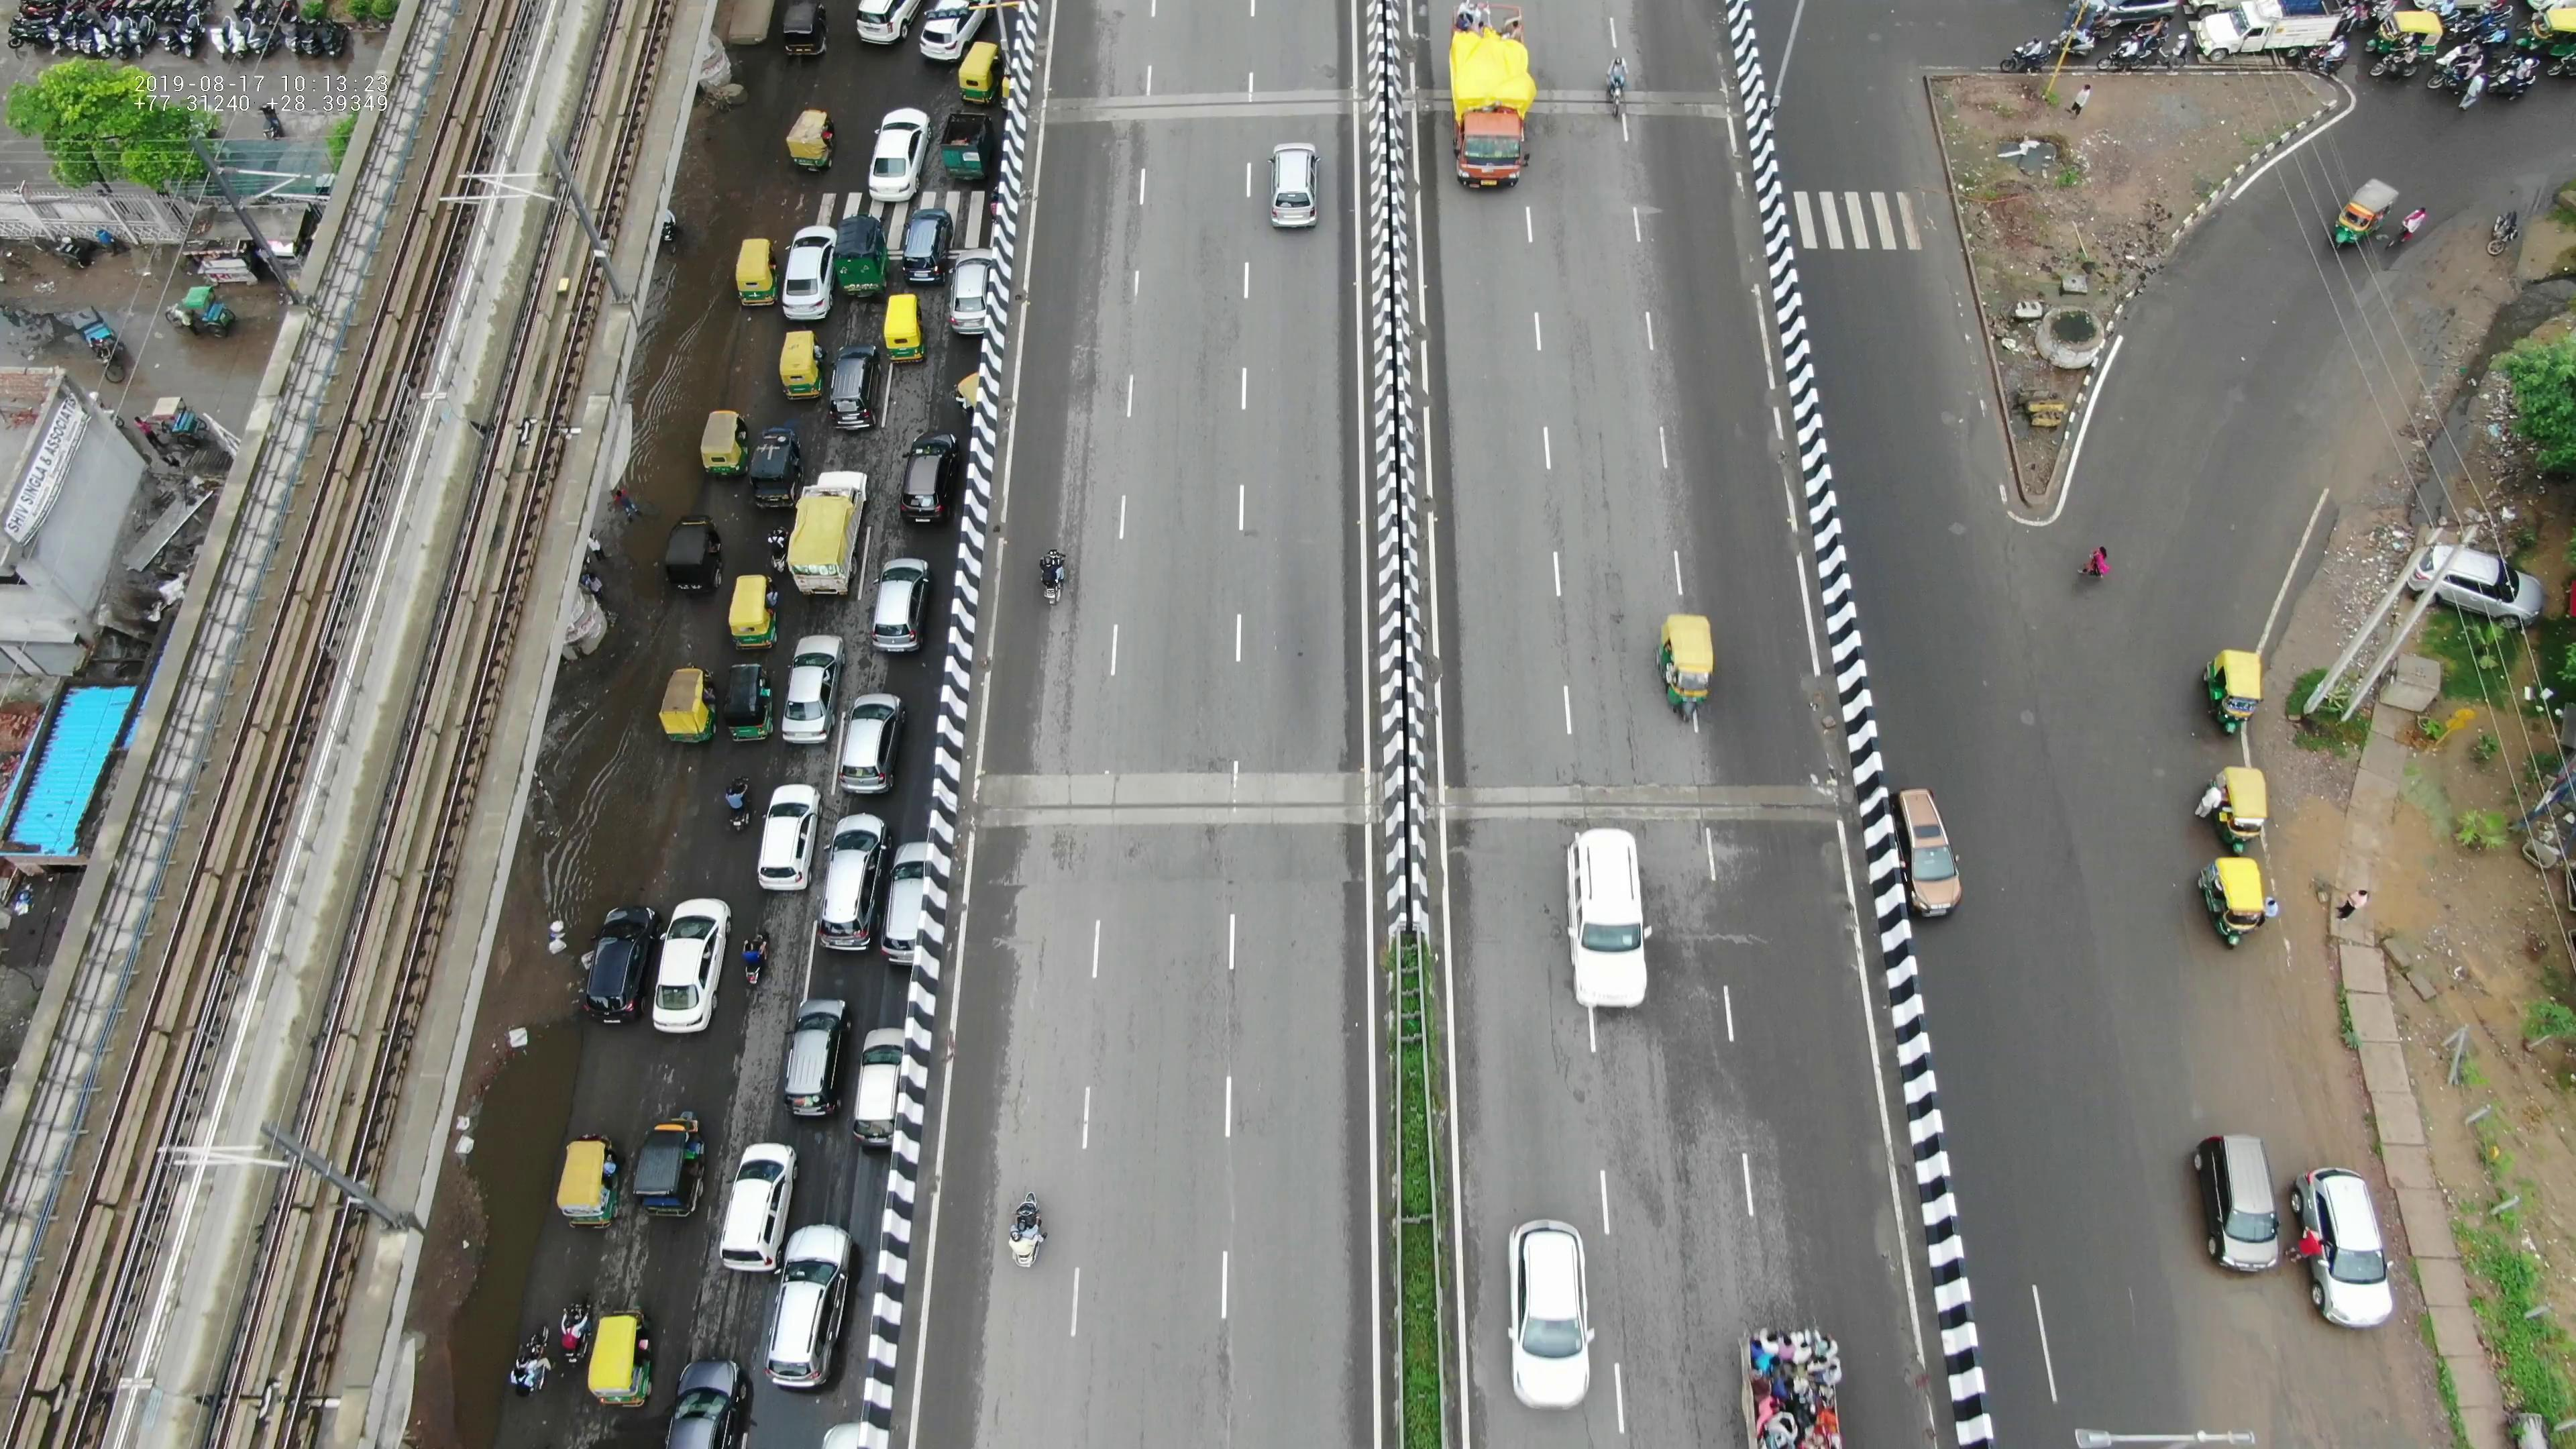Muddy_road: (2204, 978, 2351, 1136)
Ravelling: (1575, 492, 1645, 778)
Waterlogging: (433, 1021, 594, 1410), (529, 655, 646, 936), (602, 288, 725, 525)
